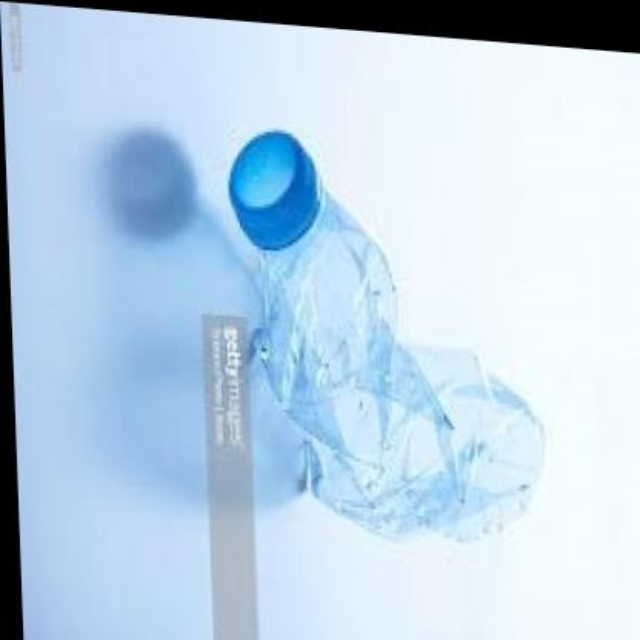trash: (229, 131, 542, 538)
